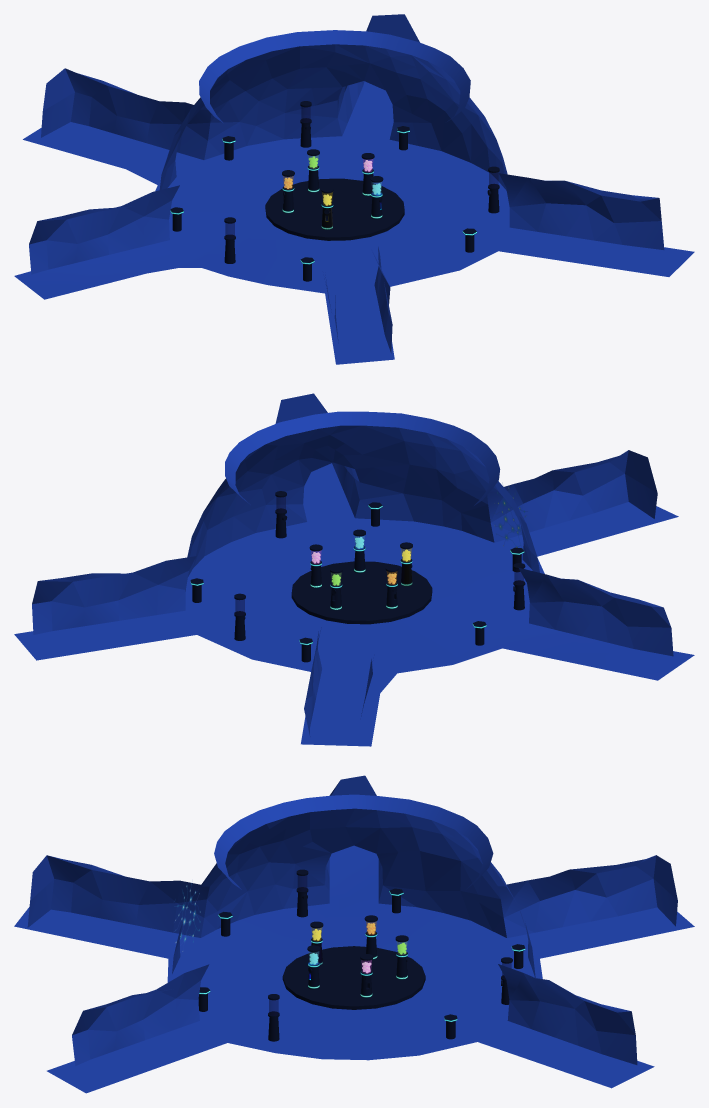
Rendered from room3.glb.
3 renders of one model, top to bottom at view 1: azimuth 30°, elevation 25°; view 2: azimuth 150°, elevation 25°; view 3: azimuth 270°, elevation 25°, orthographic.
Visible parts, largest first — view 1: room mainRoomFloor, room mainRoom, room central_pedestal; view 2: room mainRoomFloor, room mainRoom, room central_pedestal; view 3: room mainRoom, room mainRoomFloor, room central_pedestal.
Part boxes in pixels (x1,y1,x2,y2): room mainRoomFloor: [14, 81, 694, 364]; room mainRoom: [29, 14, 664, 353]; room central_pedestal: [265, 178, 404, 240]; room mainRoomFloor: [14, 463, 694, 746]; room mainRoom: [32, 393, 673, 736]; room central_pedestal: [291, 561, 432, 624]; room mainRoom: [27, 775, 677, 1065]; room mainRoomFloor: [14, 845, 694, 1093]; room central_pedestal: [282, 946, 425, 1009].
Bounding box in the file's own units: 27.02 × 6.02 × 29.01.
Materials: 6 (6 with a texture image).
